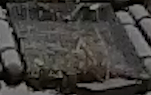bag: (1, 1, 151, 86)
